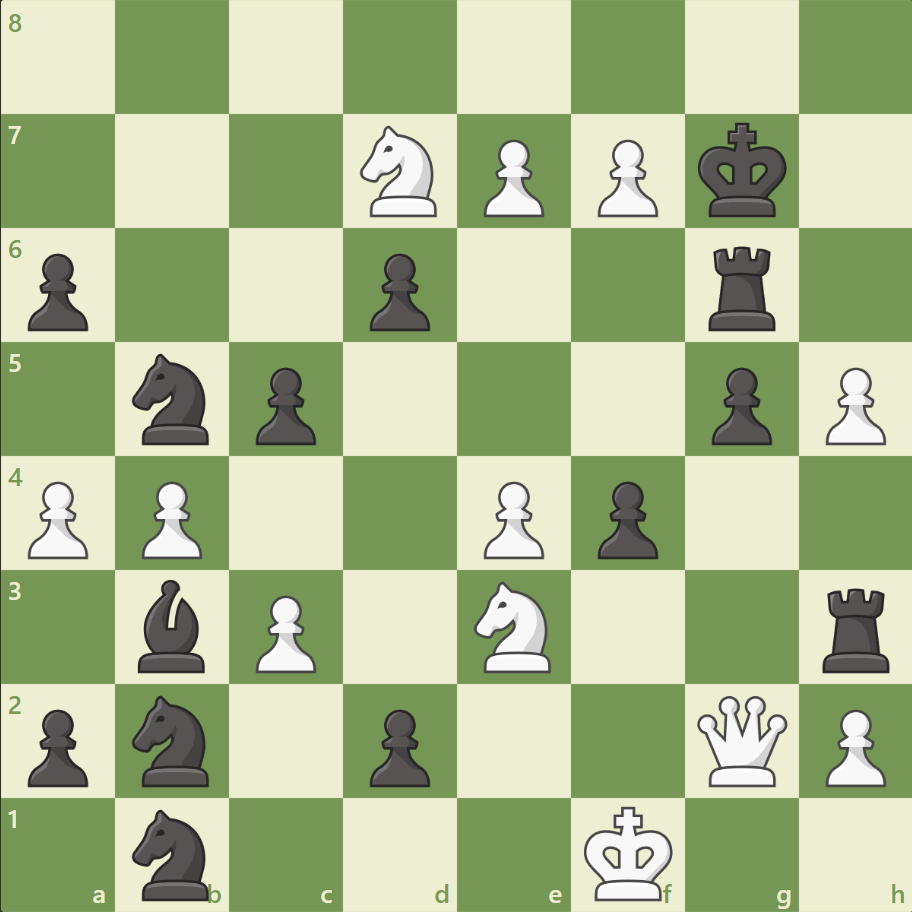K: (579, 798, 679, 906)
N: (351, 121, 449, 223), (465, 575, 562, 677)
P: (474, 132, 549, 223), (20, 473, 95, 564), (133, 473, 208, 564), (474, 473, 549, 564), (247, 586, 322, 677), (588, 132, 662, 223), (815, 359, 889, 450), (815, 700, 889, 791)
Q: (691, 690, 790, 789)
b: (131, 574, 215, 676)
k: (692, 117, 792, 225)
n: (124, 688, 222, 791), (124, 348, 222, 450), (124, 802, 222, 904)
p: (20, 246, 95, 337), (247, 359, 322, 450), (701, 359, 776, 450), (20, 700, 95, 791), (361, 246, 435, 337), (588, 473, 662, 564), (361, 700, 435, 791)
r: (700, 239, 783, 336), (814, 579, 897, 676)
